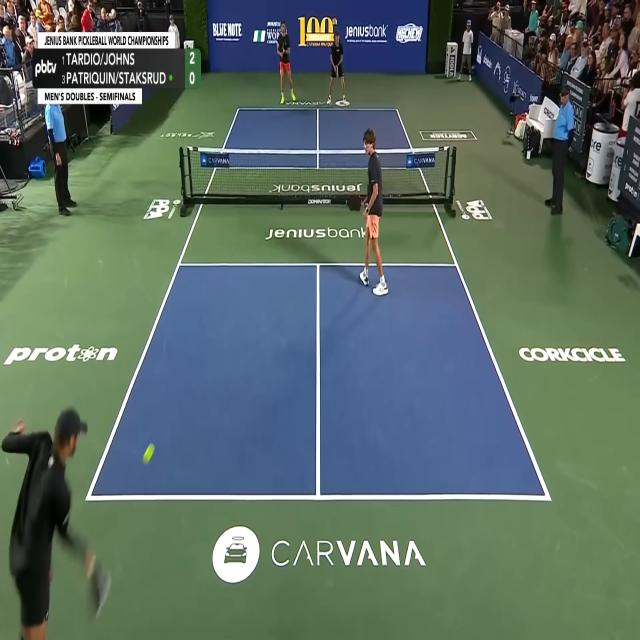ball: (142, 442, 155, 465)
